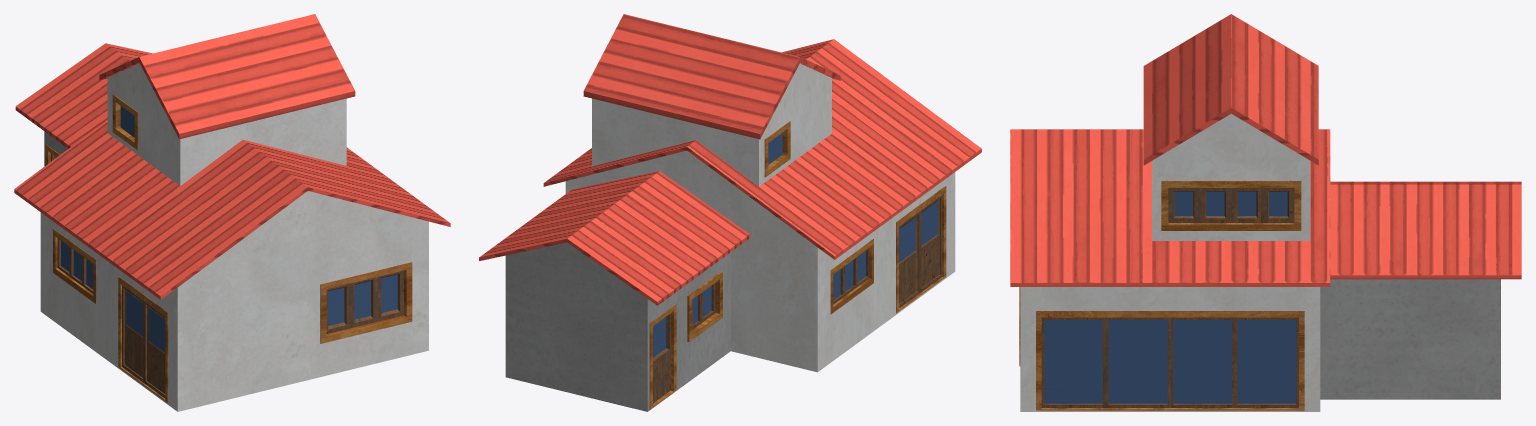
File: House5-2.fbx
3 views of the same model, side by side, from view 1: azimuth 30°, elevation 25°; view 2: azimuth 150°, elevation 25°; view 3: azimuth 270°, elevation 25° (orthographic). The views are drawn at different scales.
Parts seen in each view (by area): view 1: House5-2; view 2: House5-2; view 3: House5-2.
Boxes of the visible parts, left/top/right/bottom form: House5-2: left=14, top=14, right=450, bottom=411; House5-2: left=479, top=14, right=981, bottom=411; House5-2: left=1010, top=14, right=1521, bottom=411.
Bounding box in the file's own units: 462 × 411 × 646.
Materials: 2 (2 with a texture image).
